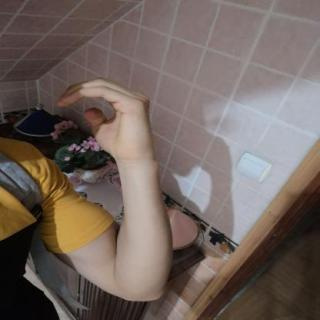JEEM: (44, 68, 171, 168)
